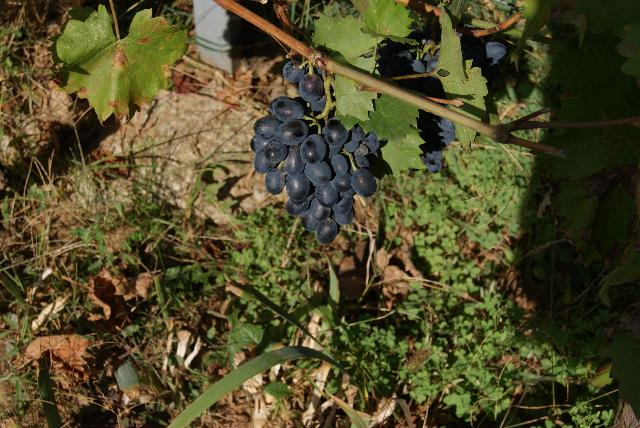grapes: (251, 96, 379, 244), (378, 40, 445, 100), (416, 110, 456, 172), (282, 61, 325, 111)
